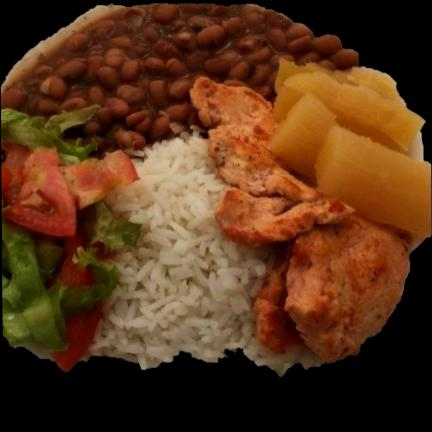beans: (1, 2, 357, 148)
cassava: (268, 60, 429, 236)
chicken: (191, 78, 408, 364)
rice: (79, 135, 320, 375)
salad: (1, 195, 134, 360), (1, 111, 96, 160)
tomato: (1, 144, 139, 283), (48, 302, 102, 373)
